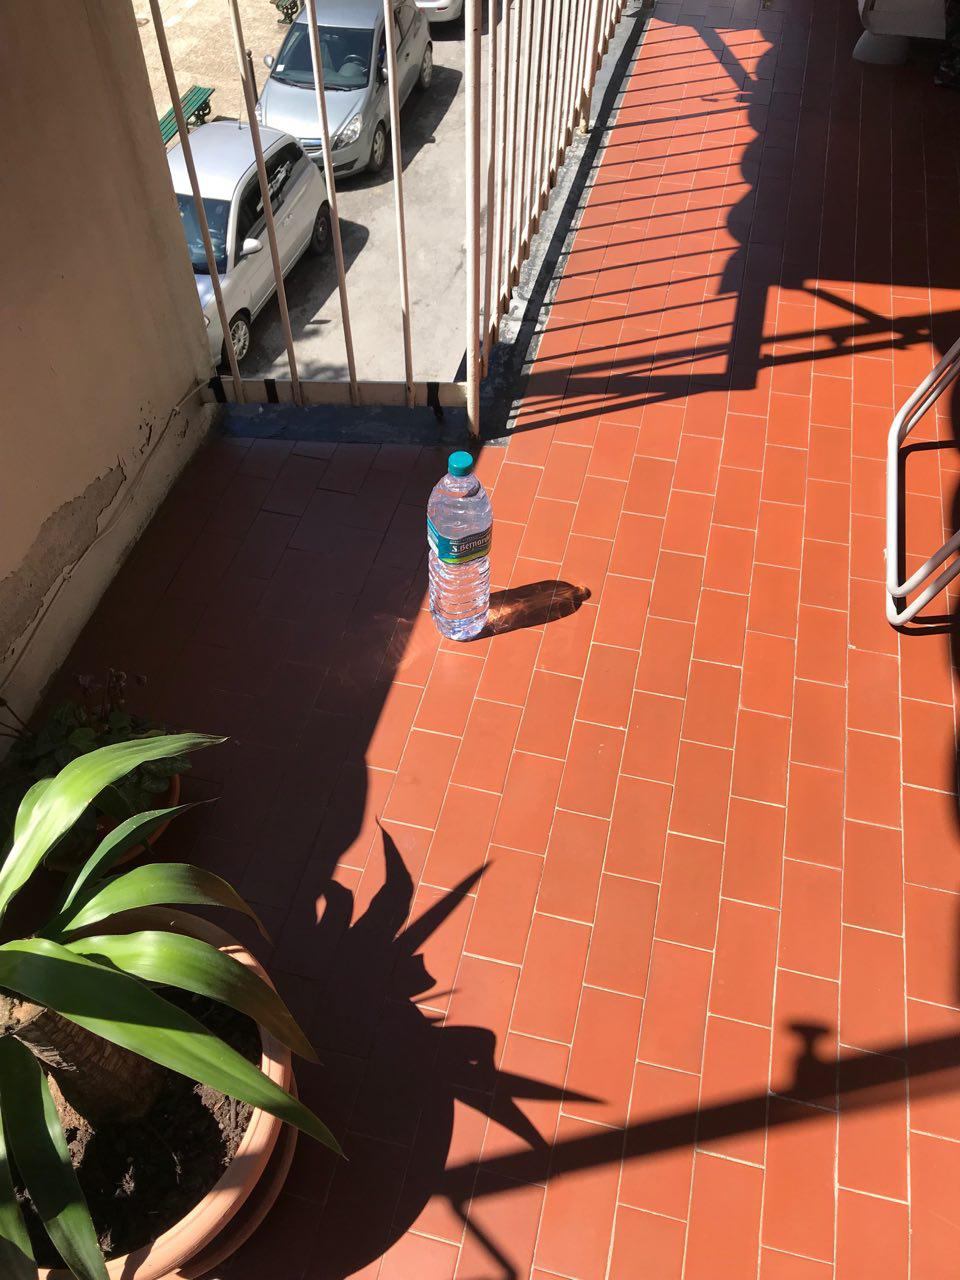san_bernardo: (425, 450, 493, 641)
